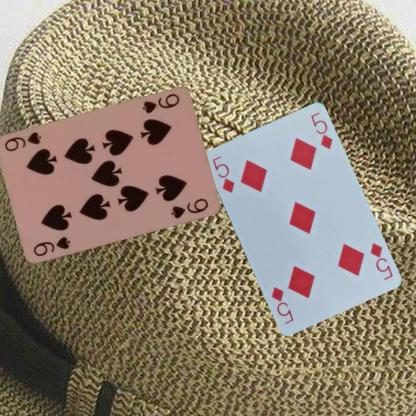5d: (209, 153, 236, 194), (367, 240, 394, 281)
9s: (139, 91, 181, 116), (30, 234, 72, 258)
